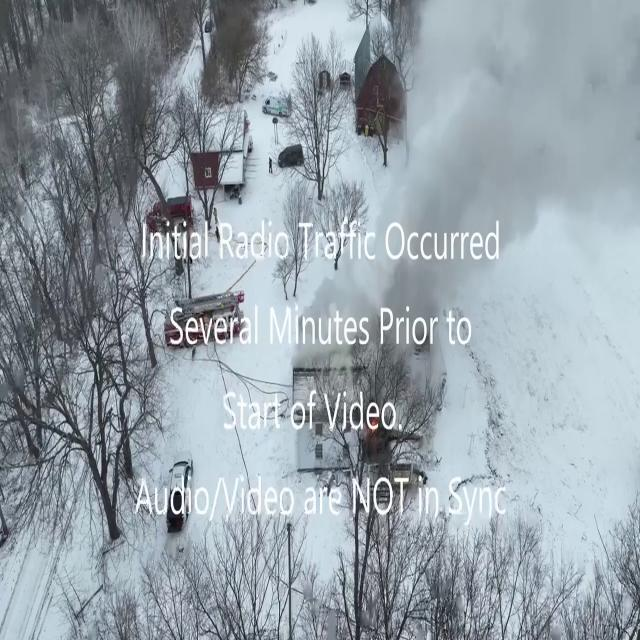Smoke: (332, 0, 640, 372)
